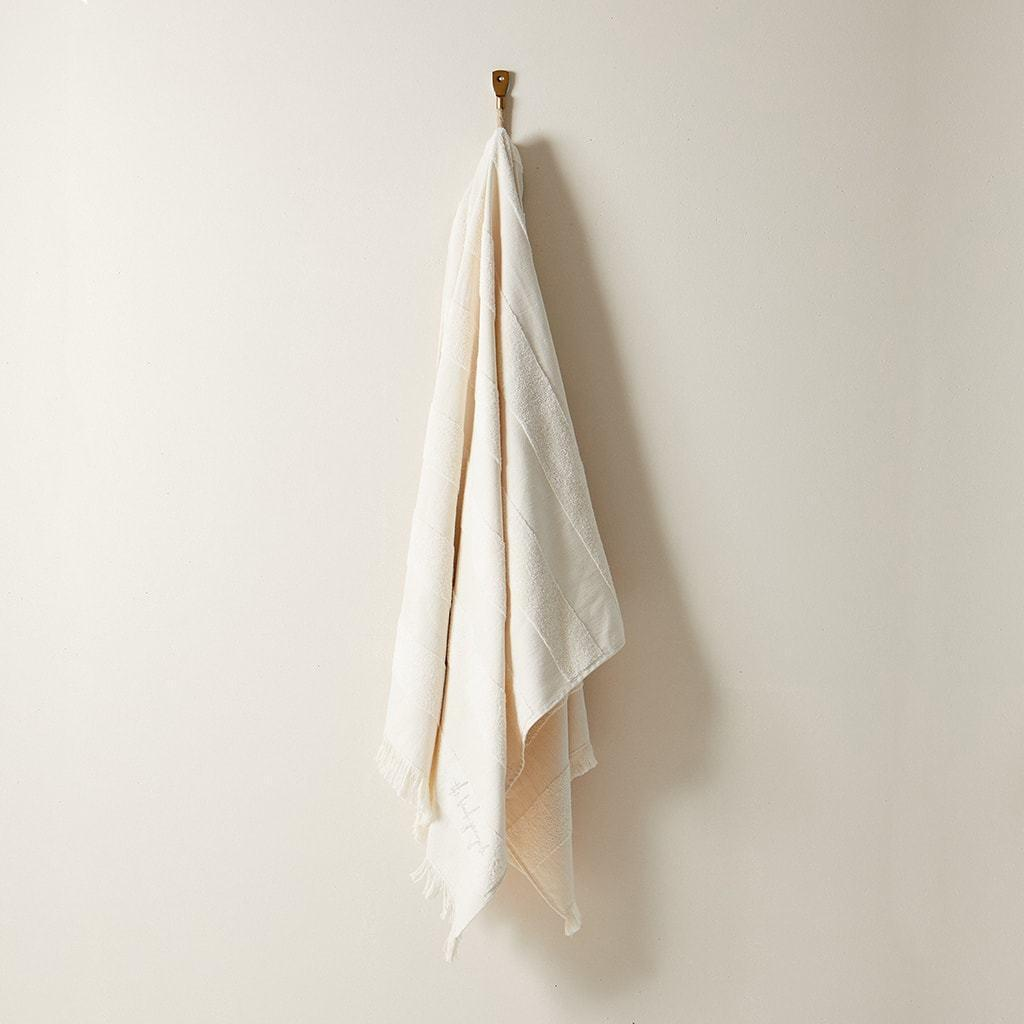towel: (335, 70, 658, 975)
